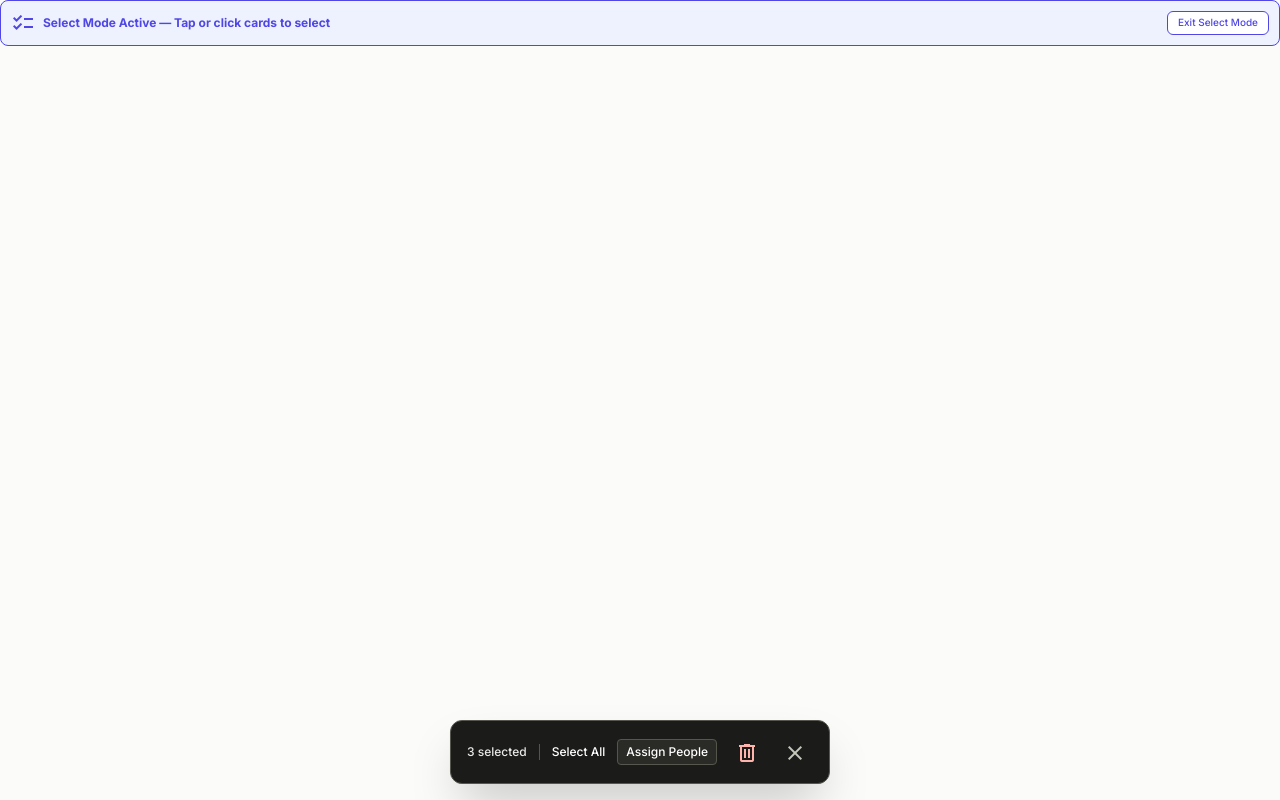
Scenario: BulkActionsBar — multi-person assign › opens a checkbox list of team members from the Assign People button
Click the button "Assign People": point(667, 752) [617, 739, 717, 765]
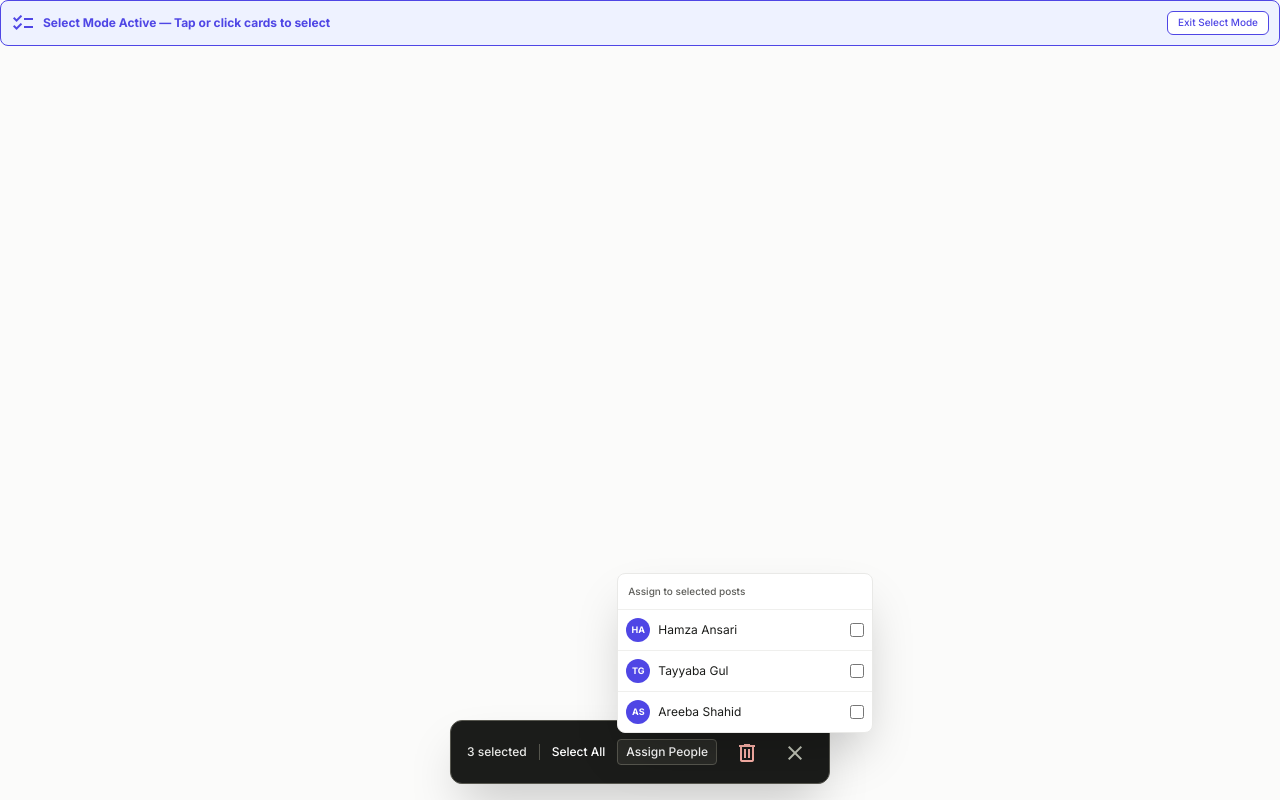
Expected: the checkbox labelled "HA Hamza Ansari" is shown, [850, 623, 864, 637]
Expected: the checkbox labelled "TG Tayyaba Gul" is shown, [850, 664, 864, 678]
Expected: the checkbox labelled "AS Areeba Shahid" is shown, [850, 705, 864, 719]
